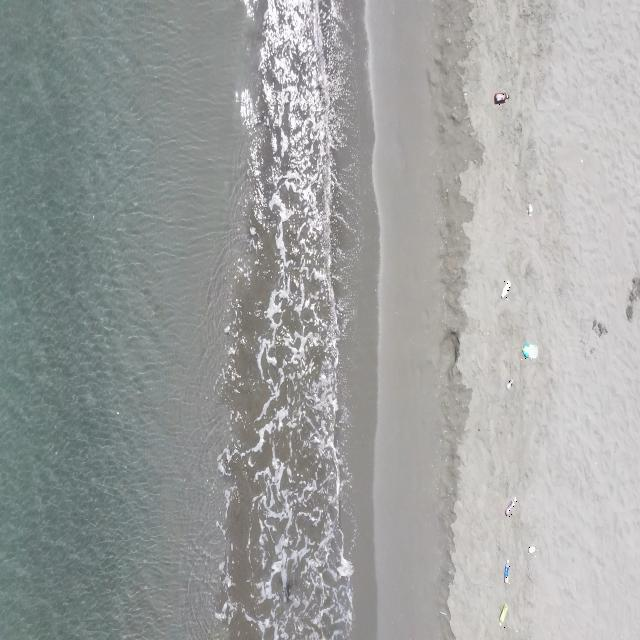plastic-bottle: (504, 495, 518, 517), (521, 343, 538, 360), (498, 603, 509, 629), (492, 91, 510, 106), (500, 280, 512, 300), (503, 558, 510, 584), (527, 543, 538, 557), (506, 377, 515, 393), (527, 202, 534, 218)
